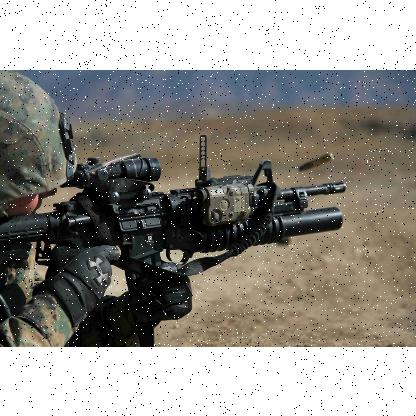gun: (0, 134, 345, 346)
